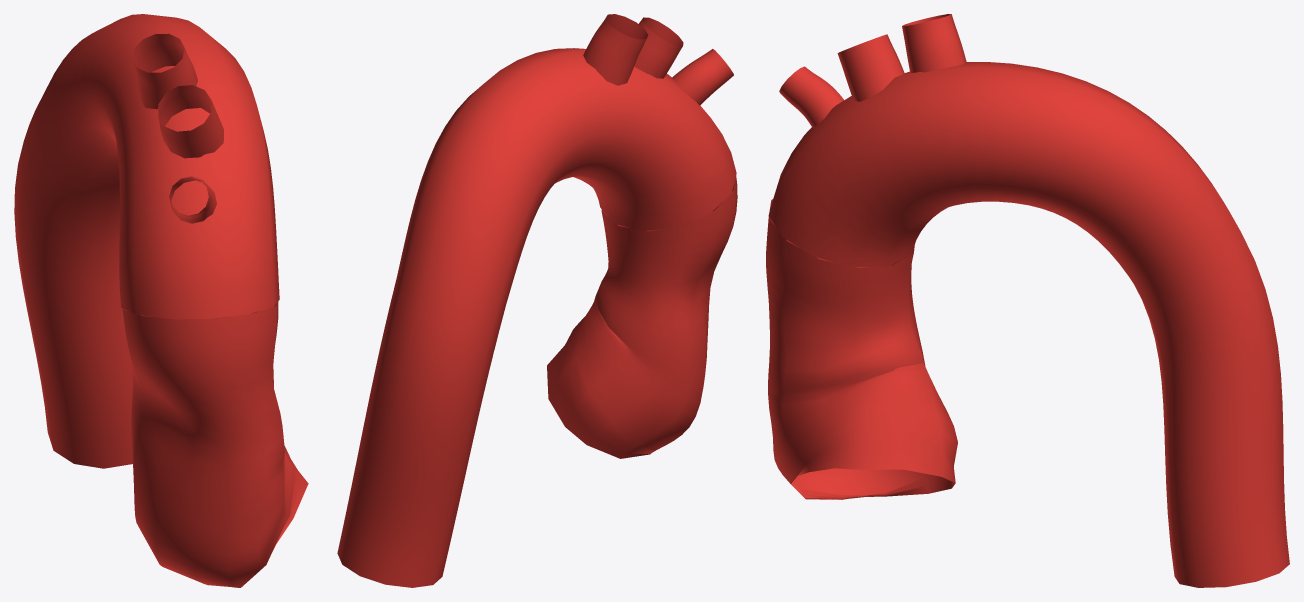
Rendered from a1vessel.glb.
3 renders of one model, left to right at view 1: azimuth 30°, elevation 25°; view 2: azimuth 150°, elevation 25°; view 3: azimuth 270°, elevation 25°, orthographic. The views are drawn at different scales.
Visible parts, largest first — view 1: a1.001; view 2: a1.001; view 3: a1.001.
Part boxes in pixels (box(x1,y1,x2,y2)): a1.001: box(14, 14, 308, 587); a1.001: box(337, 14, 737, 587); a1.001: box(766, 14, 1289, 587).
Size of the model in its own units: 1.41 by 3.16 by 2.89.
